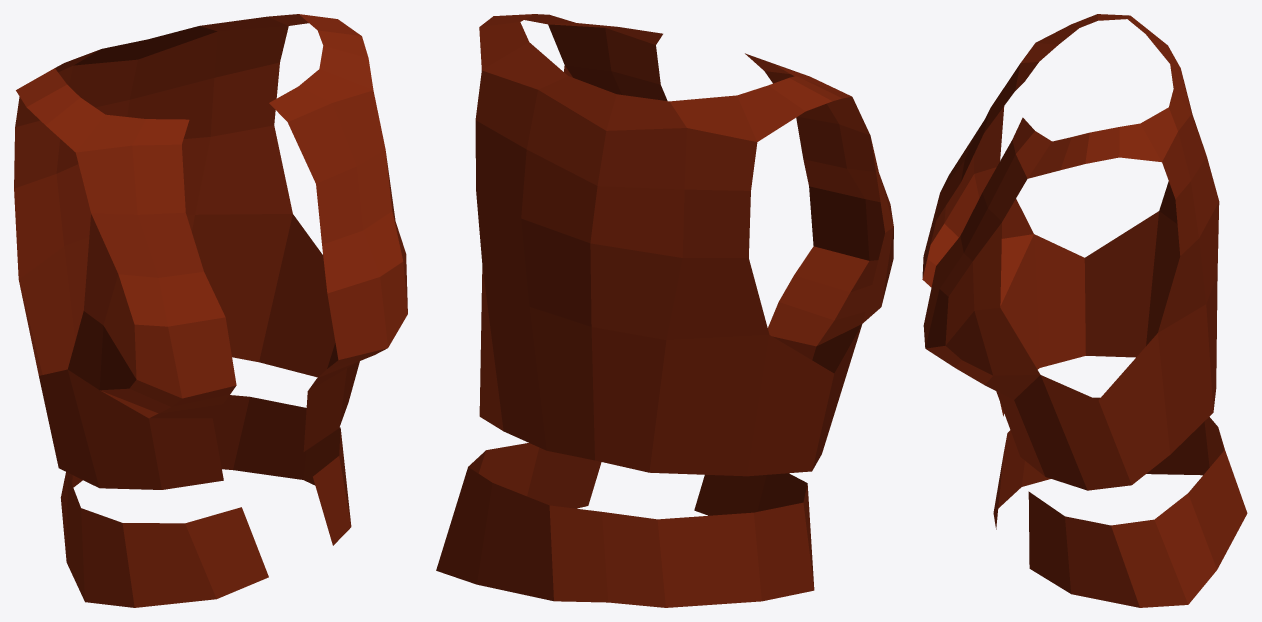
Rendered from Worker_Vest_001.obj.
3 views of the same model, side by side, from view 1: azimuth 30°, elevation 25°; view 2: azimuth 150°, elevation 25°; view 3: azimuth 270°, elevation 25° (orthographic). The views are drawn at different scales.
Size of the model in its own units: 0.2407 by 0.3466 by 0.2218.
